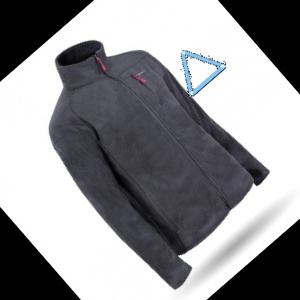triangle: (179, 46, 228, 98)
